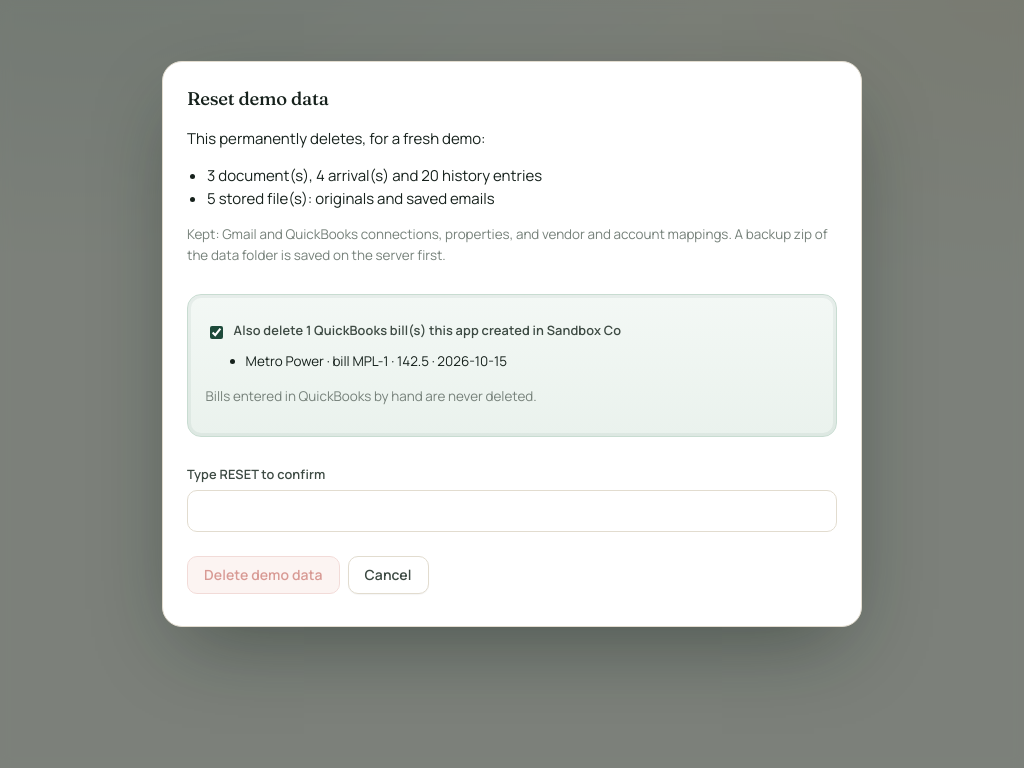
Test case: ResetDemo › lists what will be deleted and stays disabled until the word is typed
Expected: the list item "3 document(s), 4 arrival(s) and 20 history entries" is shown, [207,165,542,186]
Expected: the list item "Metro Power · bill MPL-1 · 142.5 · 2026-10-15" is shown, [246,352,507,370]
Type "RESET" into the field labelled "Type RESET to confirm".
click(512, 511); type("RESET")  # box [187,490,837,532]
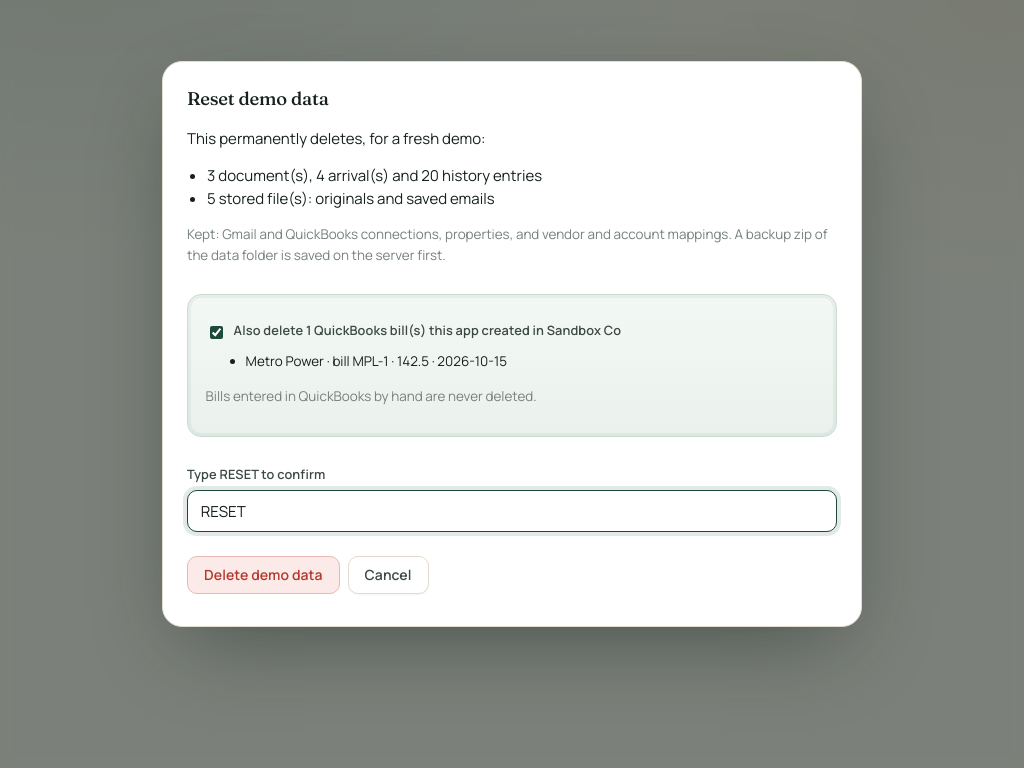
Expected: the button "Delete demo data" is enabled
Click the button "Delete demo data".
click(263, 575)  # box [187,556,340,594]
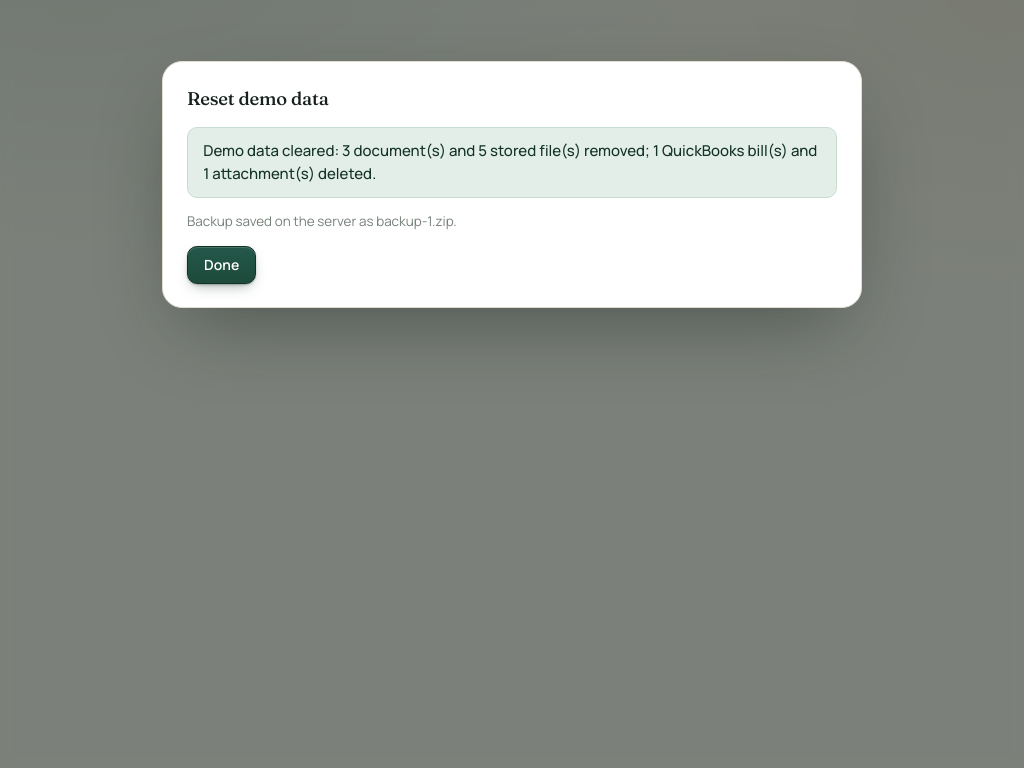
Expected: the message shows "1 QuickBooks bill(s)", [203,140,817,184]
